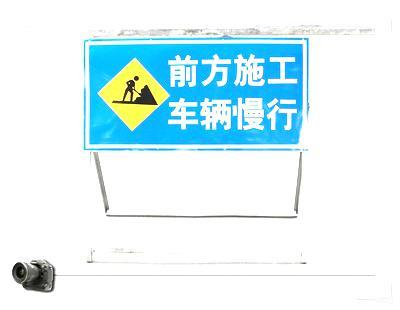sign: (85, 39, 306, 152)
